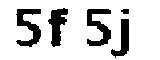5: (12, 4, 44, 49), (84, 5, 115, 50)
f: (47, 5, 76, 50)
j: (113, 7, 136, 60)
